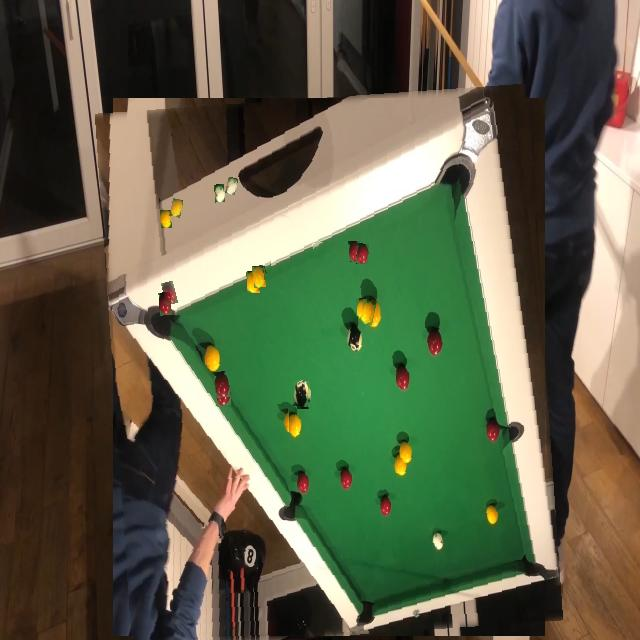Ball: (247, 338, 265, 365), (213, 372, 230, 398), (437, 371, 453, 398), (274, 404, 289, 432), (294, 381, 310, 407), (360, 300, 375, 324), (163, 280, 177, 304), (252, 266, 266, 288), (257, 254, 272, 274), (313, 243, 326, 265), (276, 215, 289, 236), (170, 198, 183, 218), (357, 243, 369, 264), (226, 177, 238, 196)
Billiard table: (103, 90, 554, 640)
